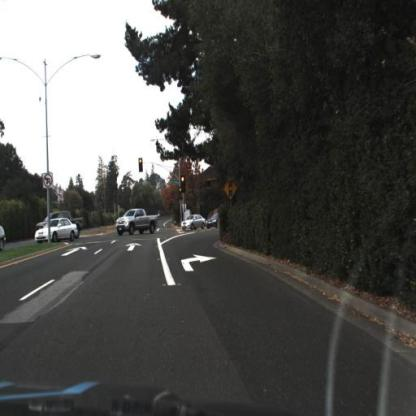car: (115, 207, 161, 238), (35, 217, 79, 246), (37, 210, 85, 226), (179, 212, 207, 232), (204, 211, 222, 231)
trafficLight-Red: (180, 175, 188, 193), (138, 156, 145, 173)
